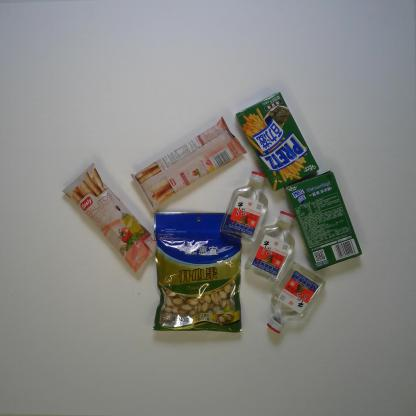Alcohol: (265, 260, 327, 333), (242, 208, 298, 286), (221, 169, 270, 245)
Dessert: (58, 160, 158, 281), (130, 115, 246, 212), (235, 91, 320, 194), (283, 168, 364, 272)
Dried Fruit: (151, 207, 246, 338)
